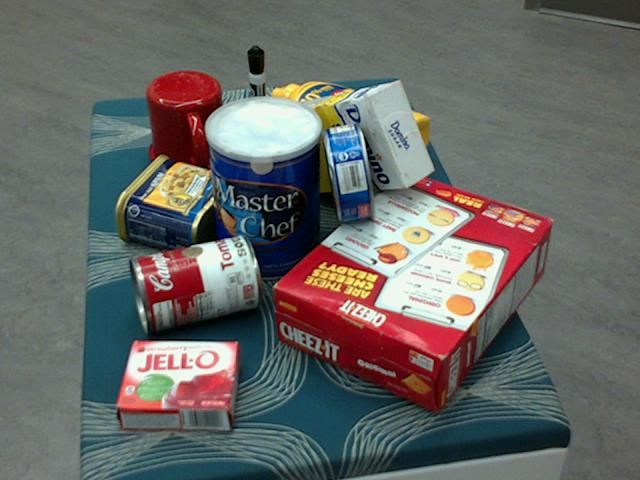cracker_box: (272, 170, 553, 410)
gelatin_box: (116, 339, 239, 430)
large_marker: (246, 45, 268, 148)
master_chef_can: (204, 98, 321, 283)
mug: (146, 71, 231, 173)
mustard_bottle: (270, 80, 429, 176)
potted_meat_can: (114, 155, 238, 255)
sugar_box: (270, 82, 433, 192)
tomato_soup_can: (128, 236, 259, 331)
tuna_fish_can: (323, 120, 375, 220)
